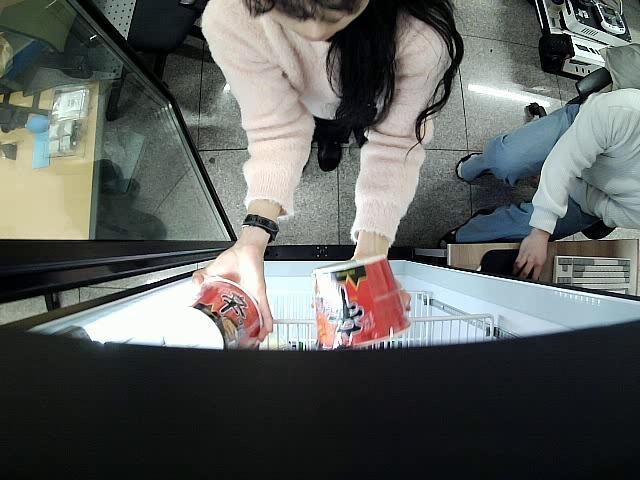01_ShinRamen_L: (311, 254, 408, 350), (164, 278, 265, 351)
